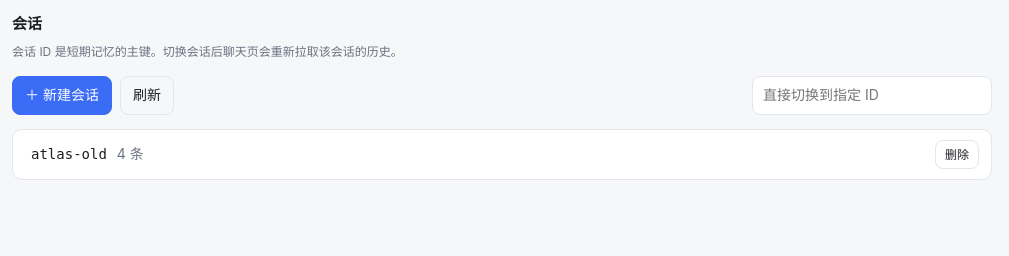
Scenario: 会话页：列出 / 新建 / 删除会话
Expected: the text "atlas-old" is shown, [31,143,107,166]
Step 1. Click the button "＋ 新建会话" → (62, 96), box [12,76,112,115]
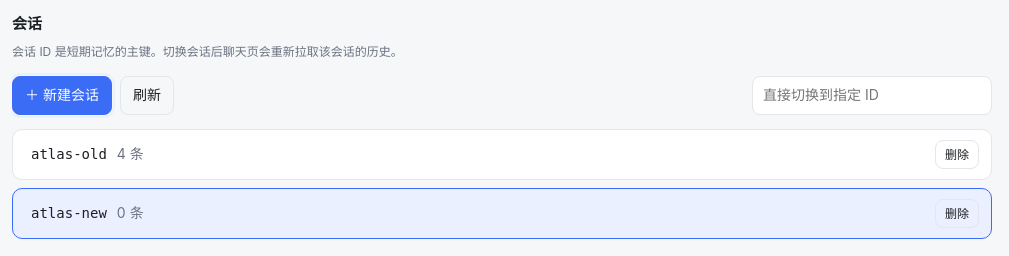
Now the text "atlas-new" is shown, box [31,202,107,225]
Step 2. Click the 1st button "删除" → (957, 154), box [935,140,979,169]
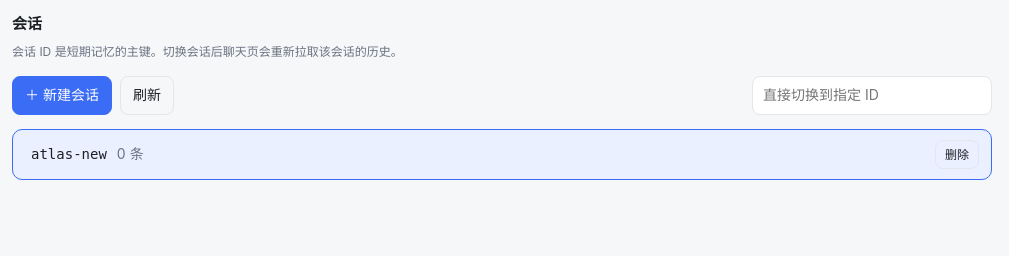
Now the button "atlas-old" is gone
